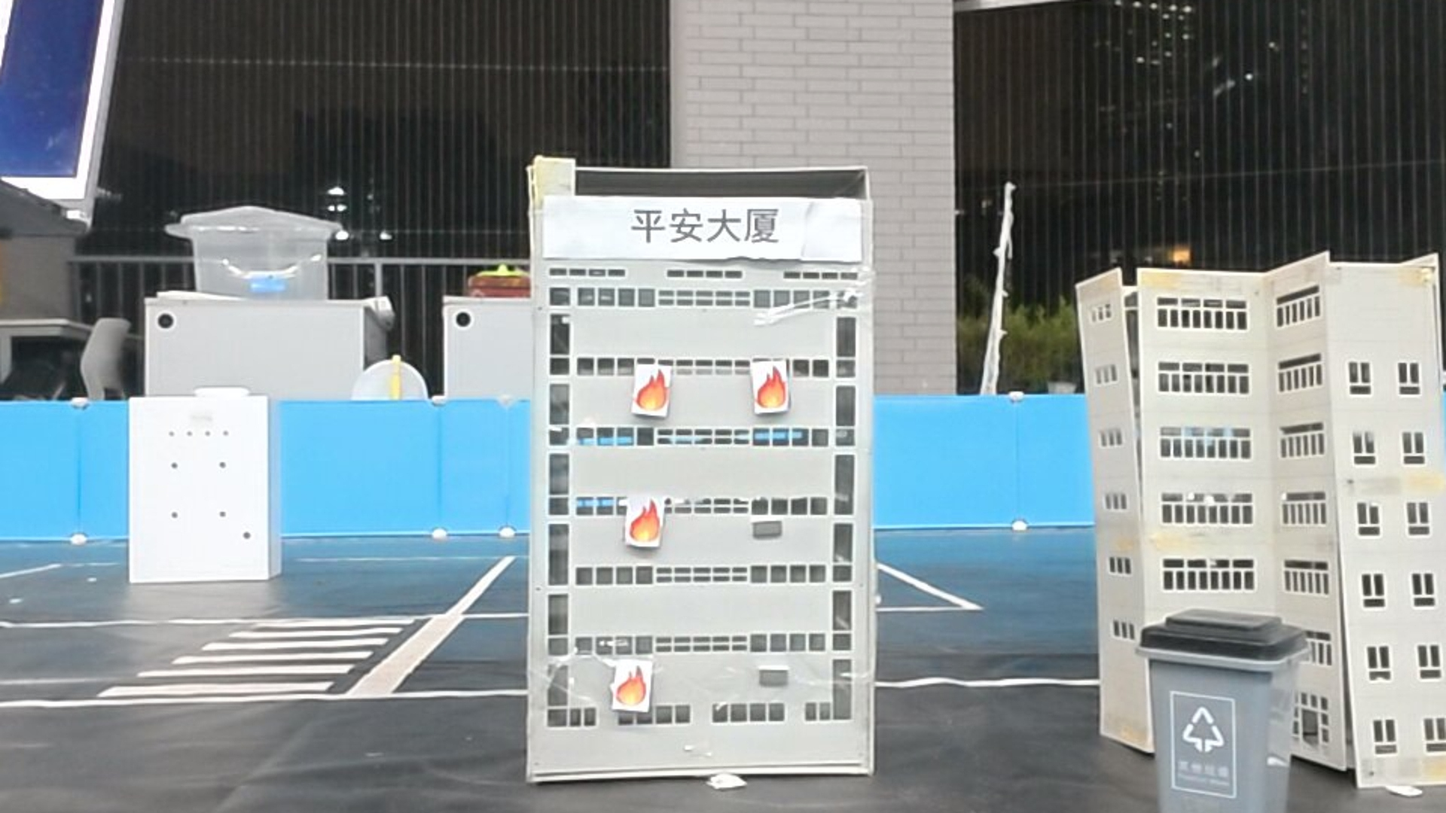fire: (632, 362, 674, 416), (625, 495, 666, 549), (612, 658, 653, 712), (752, 362, 791, 412)
